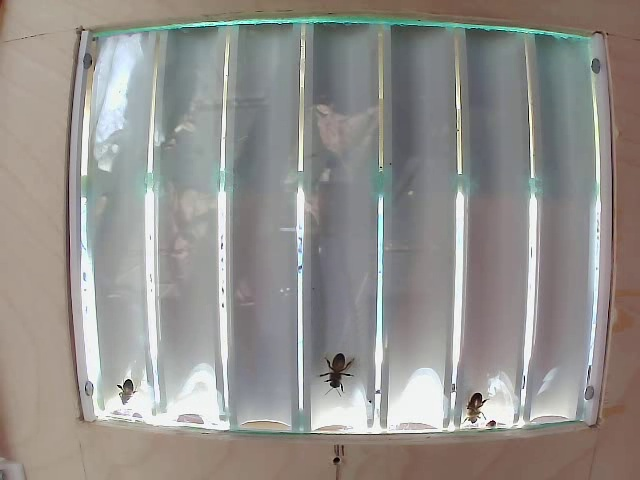bee: (309, 340, 353, 389), (446, 379, 490, 424)
